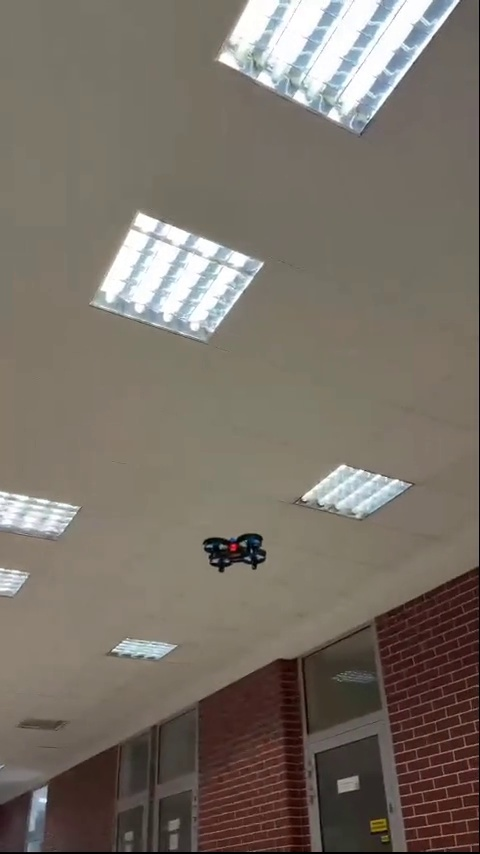drone: (200, 532, 271, 575)
